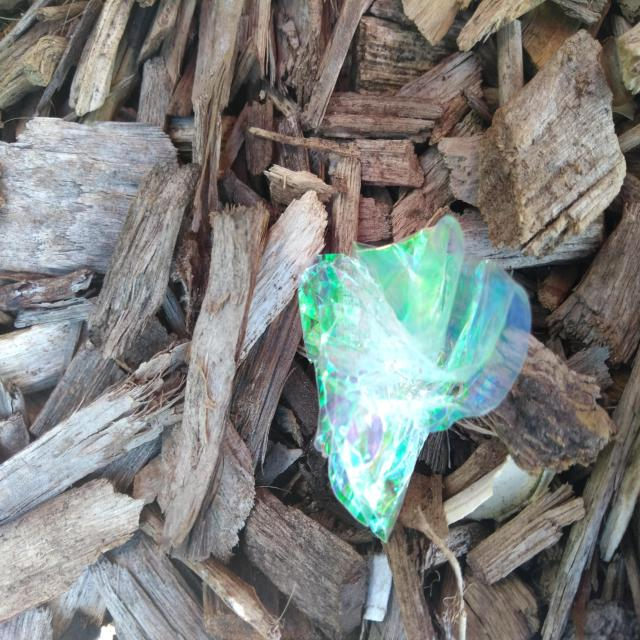litter: (288, 215, 534, 537)
